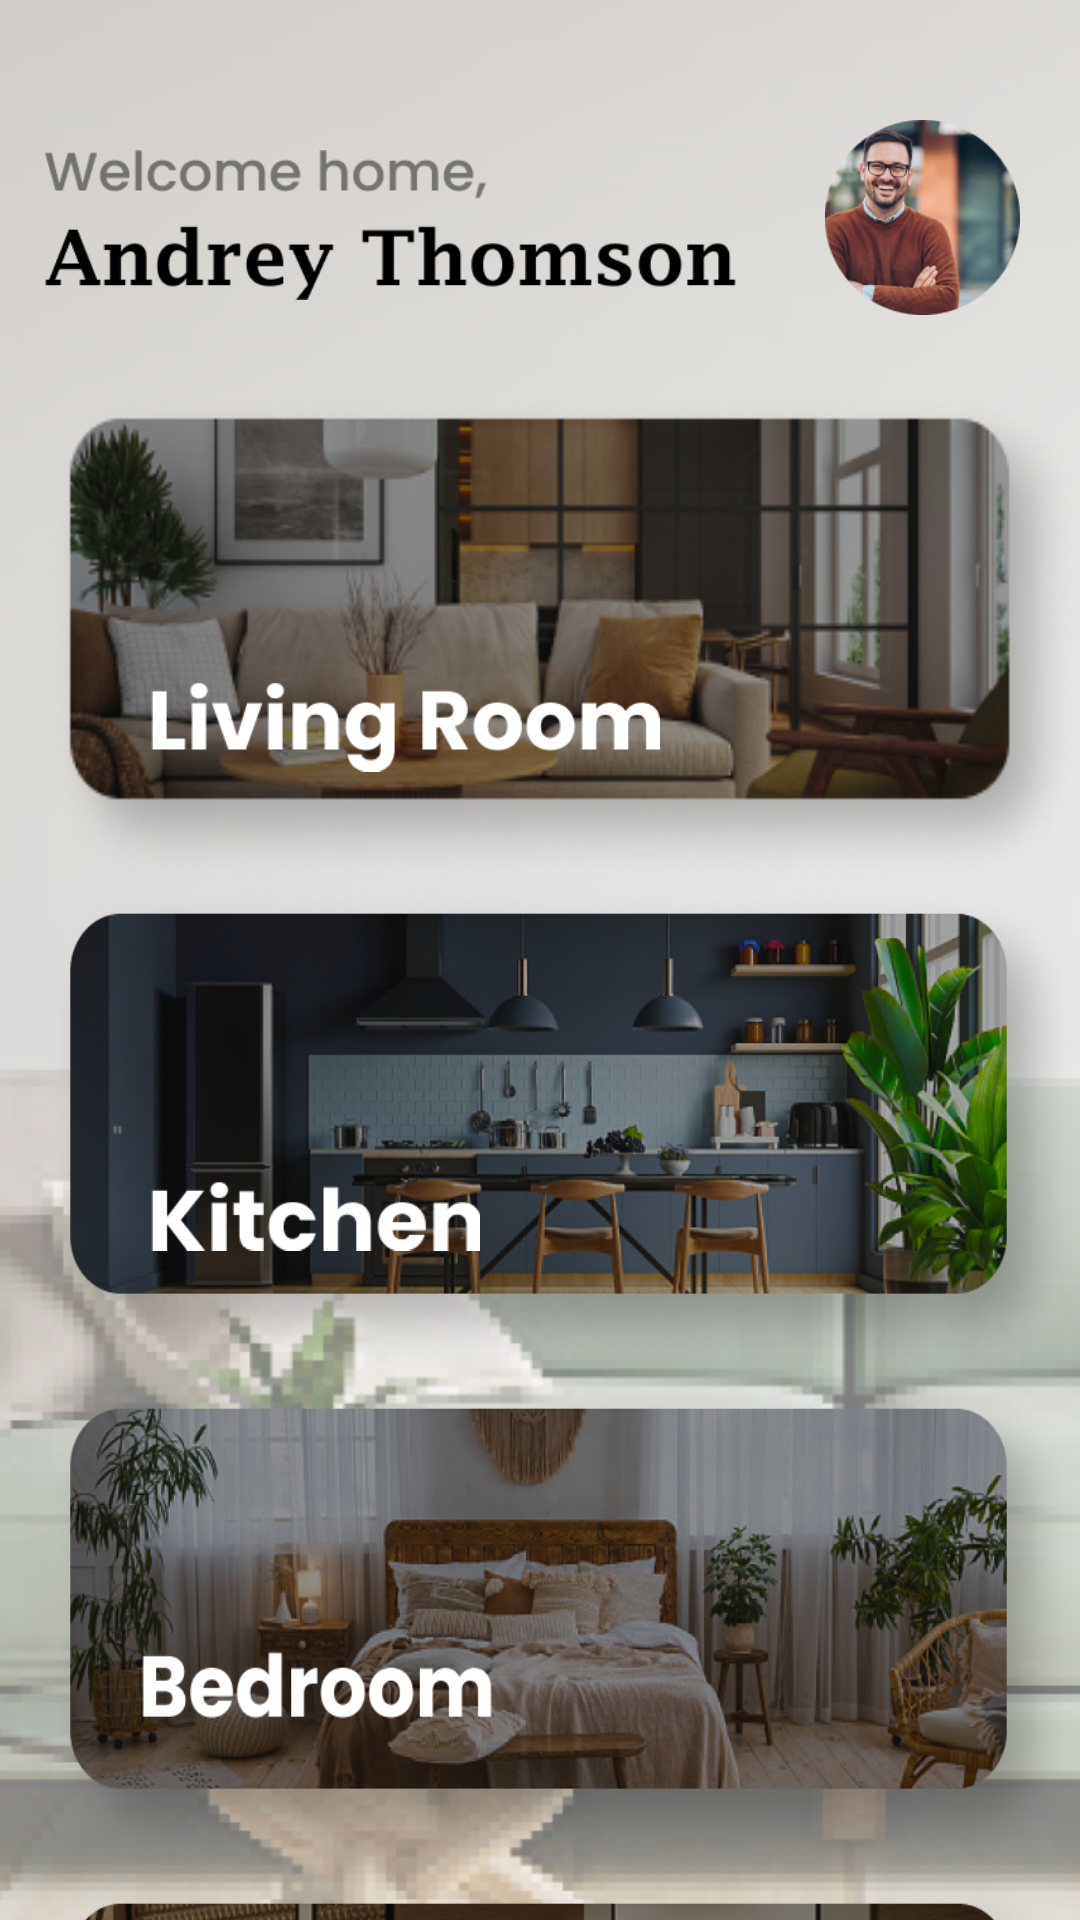

Where icons sit on this 1080 x 1920 app screen, as (x1, y1, x2, y2):
profile photo: (825, 120, 1020, 315)
